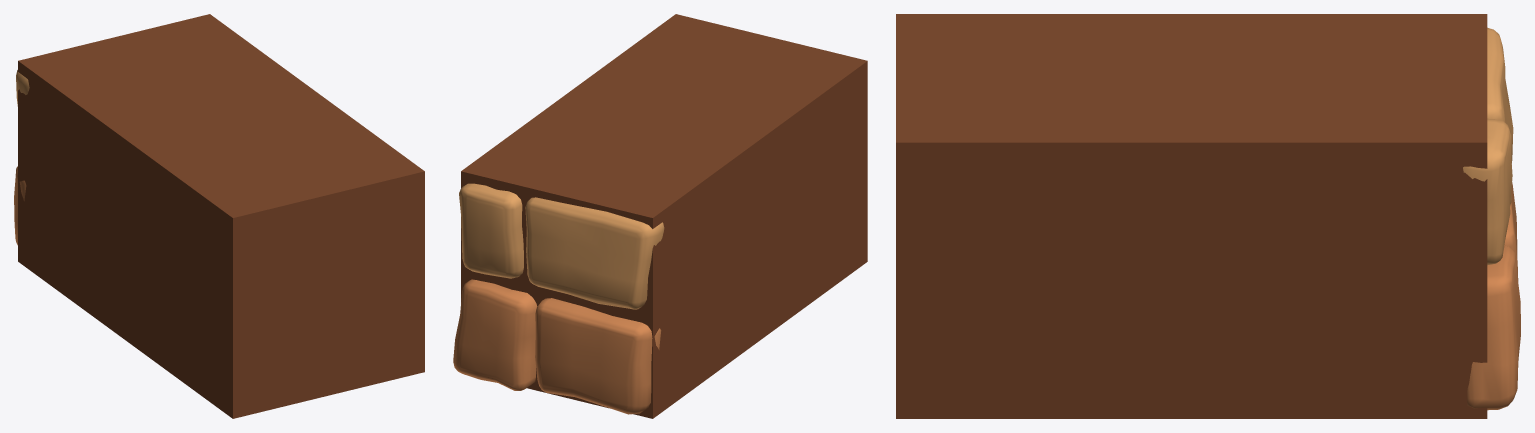
The model's file is SD_G13_Sandstone_Rock.fbx.
3 views of the same model, side by side, from view 1: azimuth 30°, elevation 25°; view 2: azimuth 150°, elevation 25°; view 3: azimuth 270°, elevation 25° (orthographic). The views are drawn at different scales.
Visible parts, largest first — view 1: SD_G13_Sandstone_Rock; view 2: SD_G13_Sandstone_Rock; view 3: SD_G13_Sandstone_Rock.
Boxes of the visible parts, x1=… form: SD_G13_Sandstone_Rock: x1=14, y1=14, x2=424, y2=418; SD_G13_Sandstone_Rock: x1=453, y1=14, x2=867, y2=418; SD_G13_Sandstone_Rock: x1=896, y1=14, x2=1520, y2=418.
Bounding box in the file's own units: 205 × 200 × 410.
